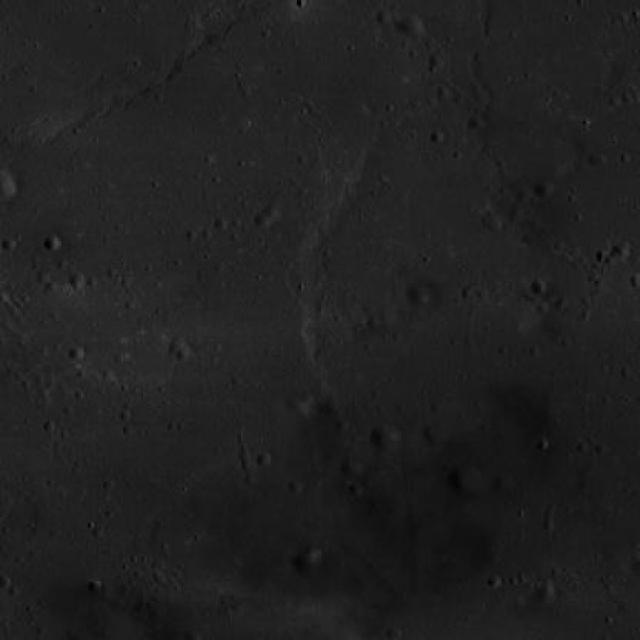crater: (143, 508, 203, 568), (446, 464, 477, 496), (370, 422, 399, 452), (288, 548, 314, 574), (402, 280, 427, 305), (394, 14, 420, 38), (340, 457, 363, 480), (492, 474, 514, 496), (419, 422, 441, 444), (530, 178, 550, 198), (248, 209, 267, 228), (533, 588, 552, 606), (41, 236, 58, 253), (302, 546, 320, 562), (478, 210, 494, 227), (529, 280, 545, 296), (374, 8, 390, 24), (66, 347, 82, 362), (610, 246, 626, 260), (504, 204, 520, 218)
